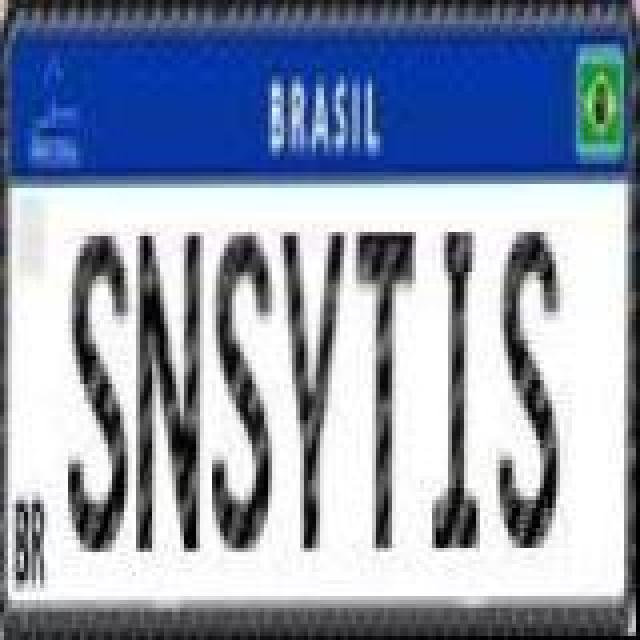I: (432, 228, 484, 552)
N: (136, 228, 204, 552)
S: (498, 220, 562, 556), (70, 230, 134, 554), (214, 228, 278, 552)
T: (356, 228, 416, 552)
Y: (280, 228, 348, 552)
